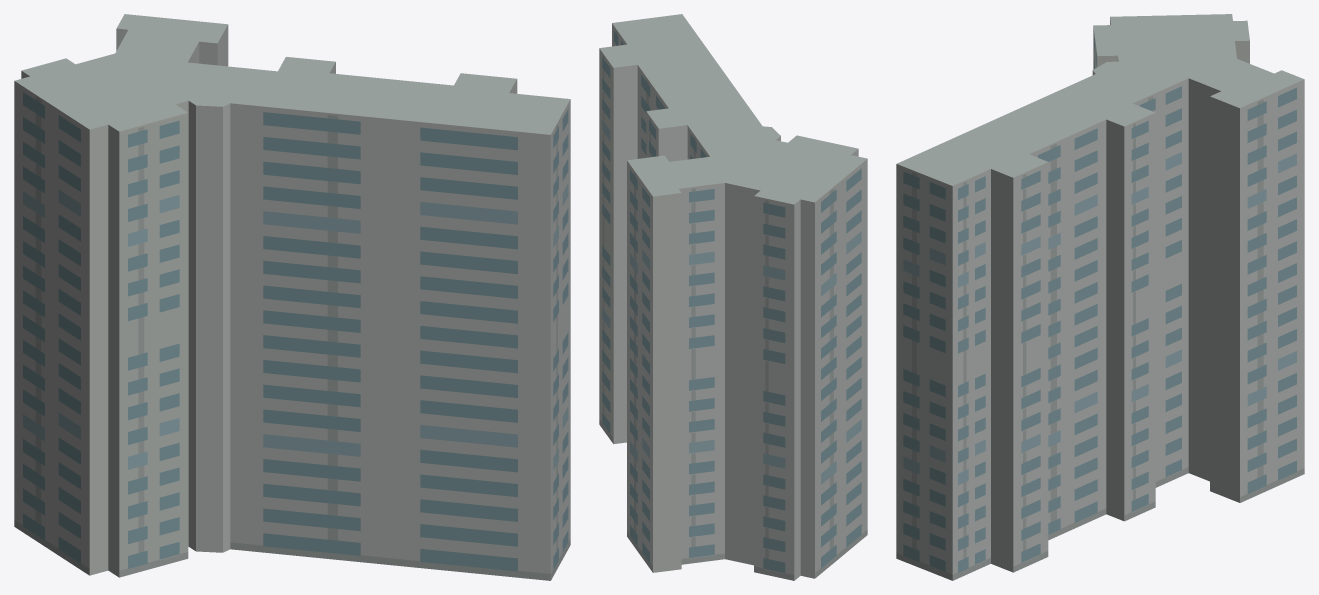
Rendered from residential-554e85ab-8d82-414d-9dfe-5180dc8e8a9e.glb.
The picture shows the model from 3 angles, left to right: view 1: azimuth 30°, elevation 25°; view 2: azimuth 150°, elevation 25°; view 3: azimuth 270°, elevation 25°; orthographic projection. The views are drawn at different scales.
Visible parts, largest first — view 1: residential-554e85ab-8d82-414d-9dfe-5180dc8e8a9e.tmp; view 2: residential-554e85ab-8d82-414d-9dfe-5180dc8e8a9e.tmp; view 3: residential-554e85ab-8d82-414d-9dfe-5180dc8e8a9e.tmp.
Part boxes in pixels (<box>): residential-554e85ab-8d82-414d-9dfe-5180dc8e8a9e.tmp: <box>14,14,570,580</box>; residential-554e85ab-8d82-414d-9dfe-5180dc8e8a9e.tmp: <box>599,14,867,580</box>; residential-554e85ab-8d82-414d-9dfe-5180dc8e8a9e.tmp: <box>896,14,1304,580</box>.
Bounding box in the file's own units: 51.33 × 54.9 × 51.43.
